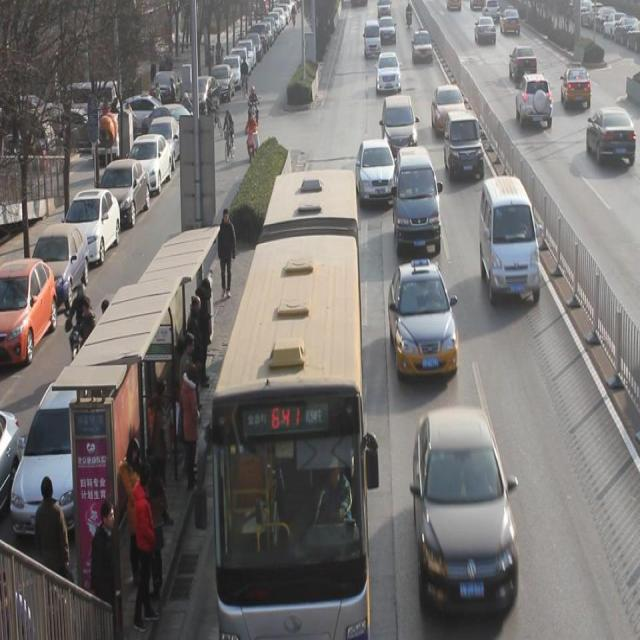car: (413, 408, 518, 612), (388, 262, 458, 376), (587, 105, 636, 164), (445, 112, 485, 182), (356, 139, 395, 204), (515, 74, 554, 127), (382, 96, 417, 154), (431, 85, 465, 135), (562, 63, 591, 109), (375, 52, 402, 94), (509, 44, 537, 80), (412, 28, 433, 63), (474, 15, 496, 45), (500, 2, 520, 34), (378, 15, 396, 44)
truck: (479, 174, 542, 305), (395, 146, 441, 255), (364, 20, 380, 58)
van: (217, 173, 368, 632)
